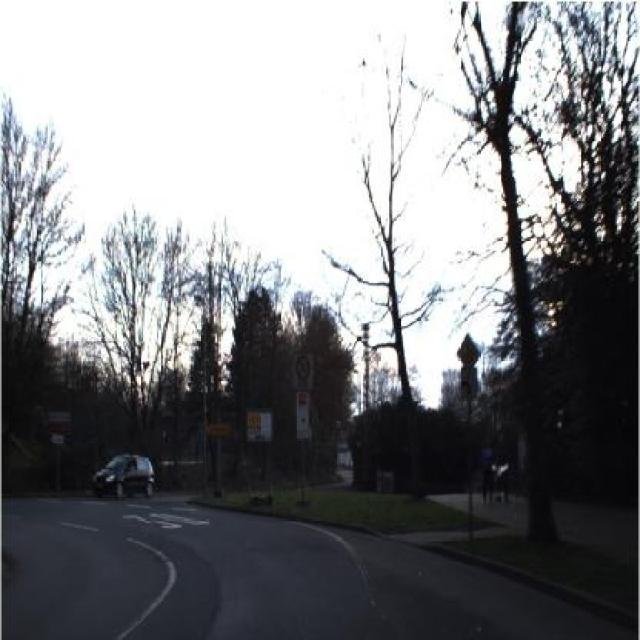forb_speed_over_30: (295, 354, 312, 381)
